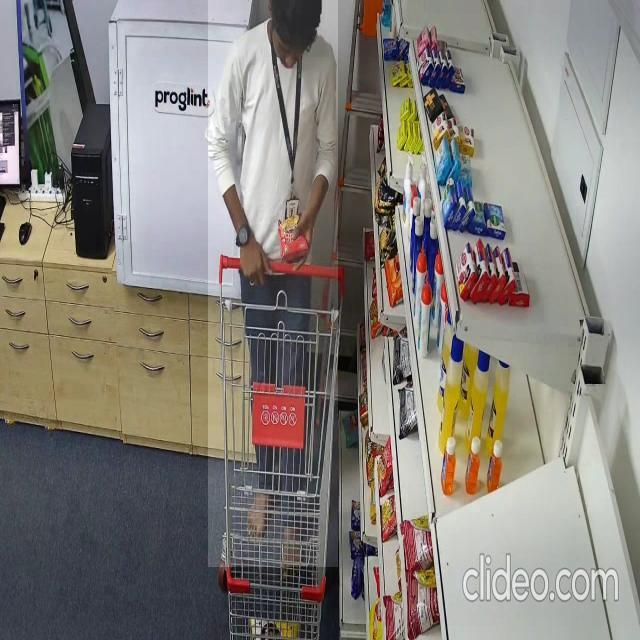normal: (208, 0, 338, 567)
